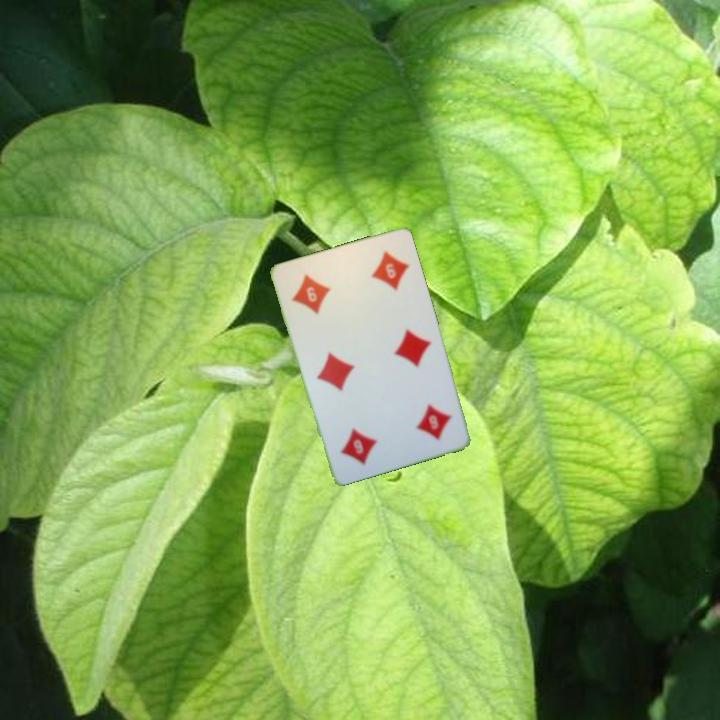d_6.png: (280, 255, 360, 328), (383, 384, 462, 457)
